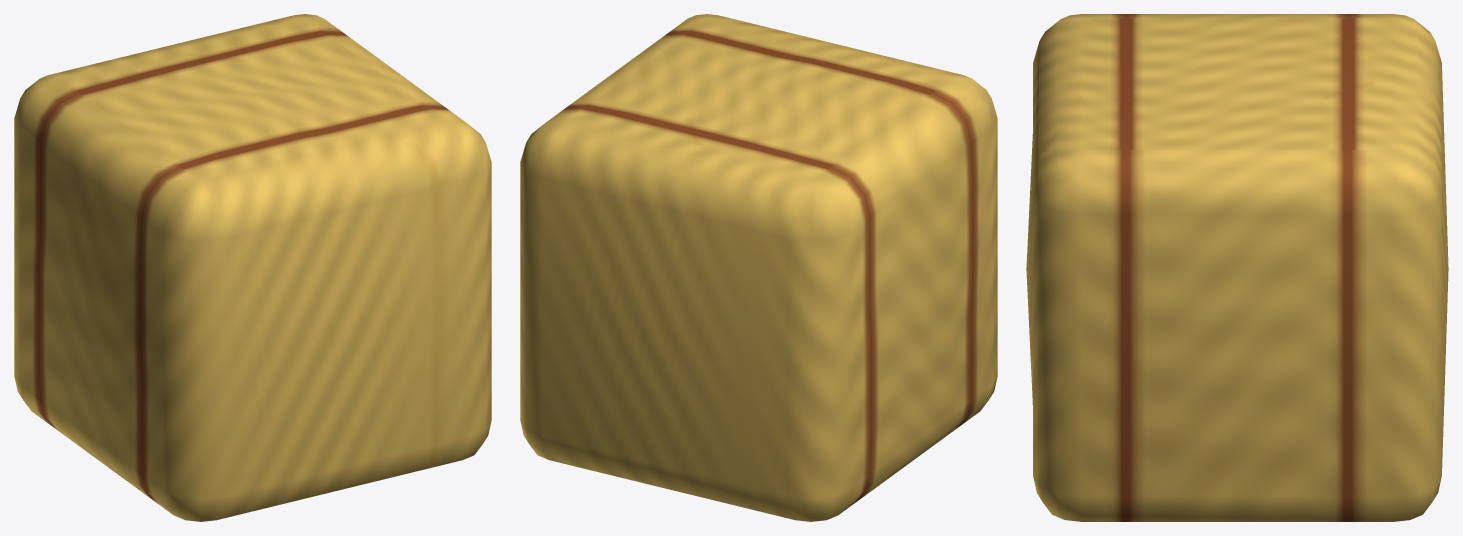
File: HayBale_1x1.fbx
3 views of the same model, side by side, from view 1: azimuth 30°, elevation 25°; view 2: azimuth 150°, elevation 25°; view 3: azimuth 270°, elevation 25° (orthographic). The views are drawn at different scales.
Parts seen in each view (by area): view 1: HayBale_1x1; view 2: HayBale_1x1; view 3: HayBale_1x1.
Part boxes in pixels (bbox=[...]): HayBale_1x1: bbox=[14, 14, 491, 521]; HayBale_1x1: bbox=[520, 14, 997, 521]; HayBale_1x1: bbox=[1026, 14, 1448, 521].
Size of the model in its own units: 0.95 by 0.9071 by 0.95.
1 material, 1 textured.
